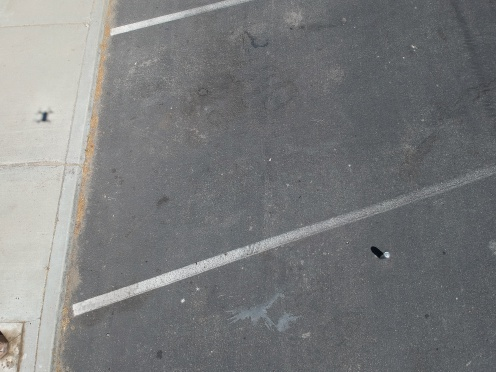can: (379, 250, 393, 261)
